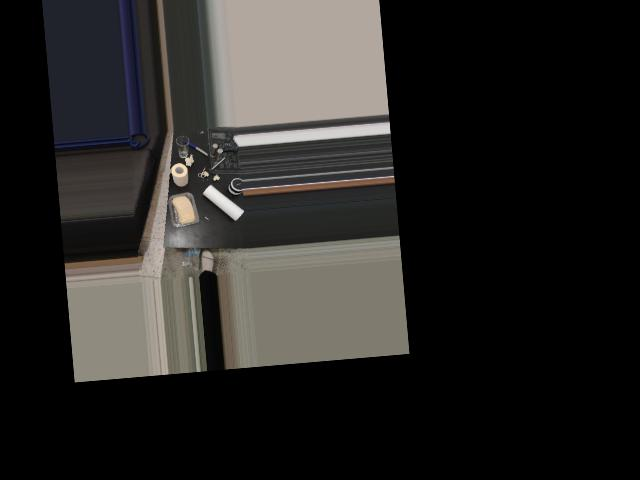cheese: (166, 190, 201, 231)
